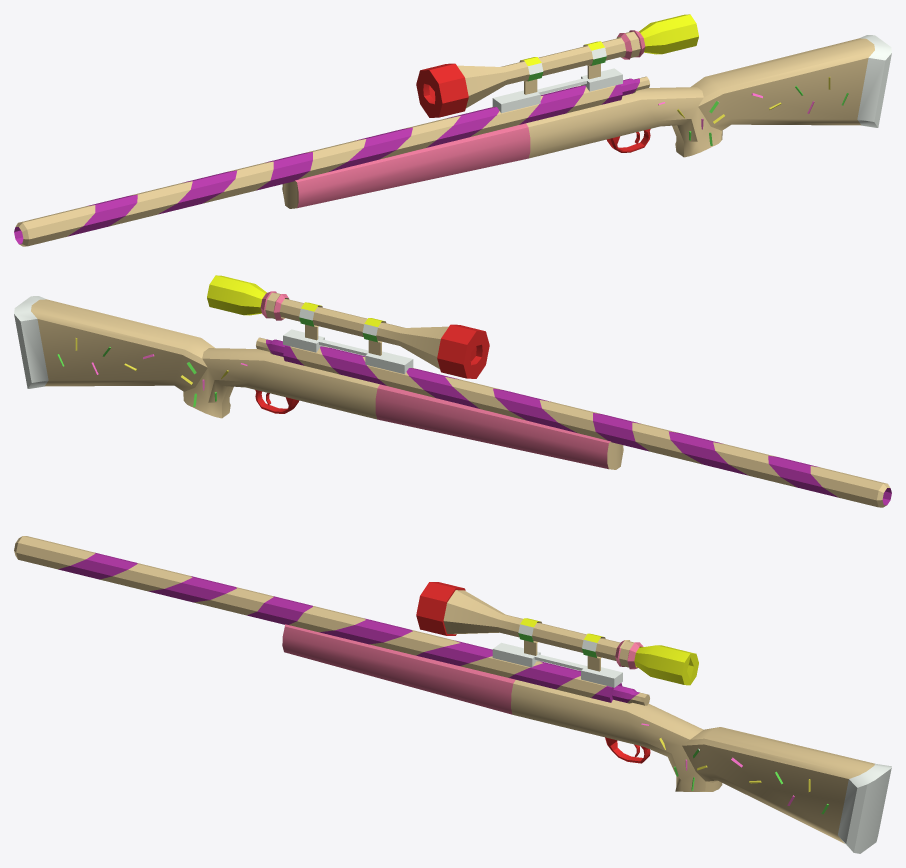
Rendered from sniper.fbx.
The picture shows the model from 3 angles, top to bottom: view 1: azimuth 30°, elevation 25°; view 2: azimuth 150°, elevation 25°; view 3: azimuth 330°, elevation 25°; orthographic projection.
Parts seen in each view (by area): view 1: Cube.001; view 2: Cube.001; view 3: Cube.001.
Part boxes in pixels (x1,y1,x2,y2): Cube.001: [14, 14, 891, 246]; Cube.001: [14, 275, 891, 507]; Cube.001: [14, 536, 891, 853].
Bounding box in the file's own units: 14.89 × 2.62 × 0.8383.
